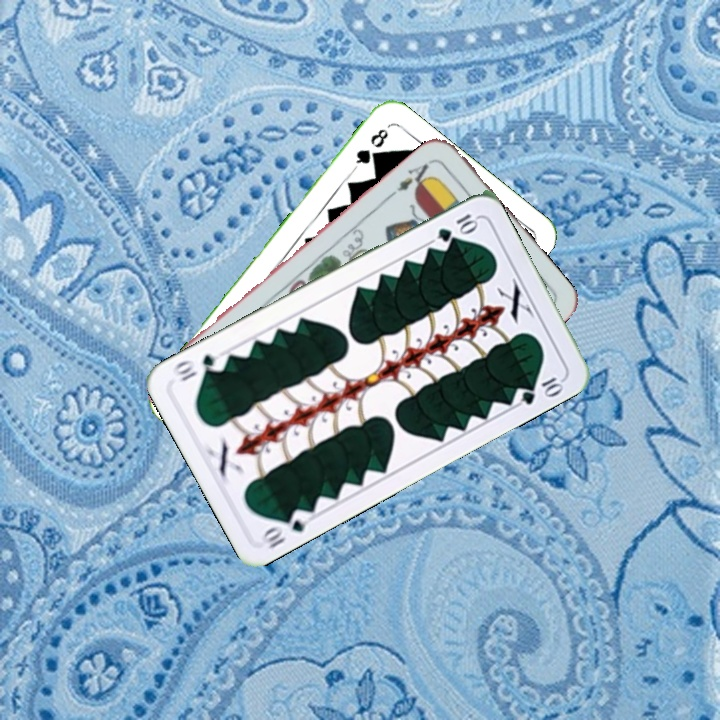EA: (386, 155, 436, 199)
G10: (256, 505, 314, 552), (433, 209, 481, 245)
G8: (350, 124, 392, 172)
